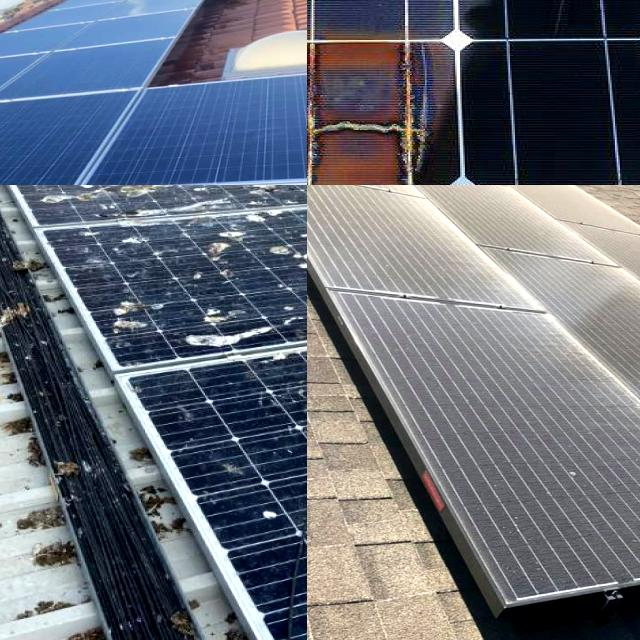dust: (413, 319, 557, 452), (504, 457, 640, 570), (333, 206, 479, 303), (566, 329, 639, 451), (522, 212, 604, 282), (307, 185, 408, 216), (430, 185, 562, 202)
shadow: (307, 23, 492, 185), (307, 44, 394, 183)
